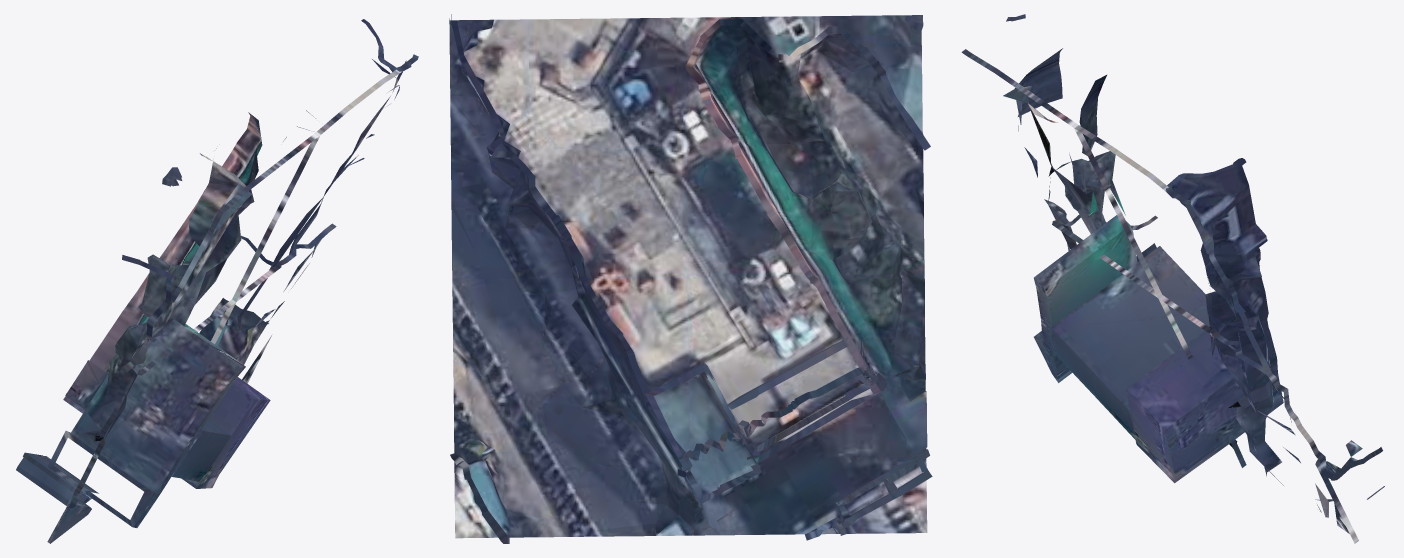
3 views of the same model, side by side, from view 1: azimuth 30°, elevation 25°; view 2: azimuth 150°, elevation 25°; view 3: azimuth 270°, elevation 25° (orthographic). The views are drawn at different scales.
Bounding box in the file's own units: 40.17 × 37.5 × 34.88.
Materials: 1 (1 with a texture image).
